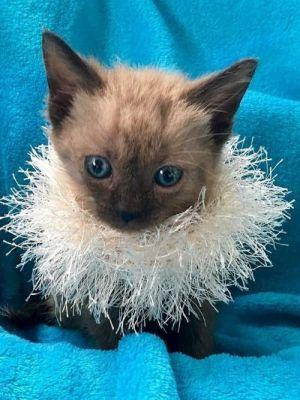siamese: (23, 15, 266, 254)
